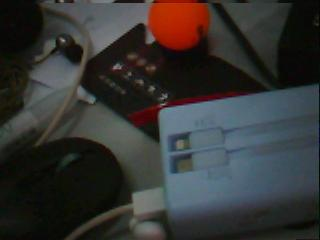oball: (147, 2, 210, 50)
